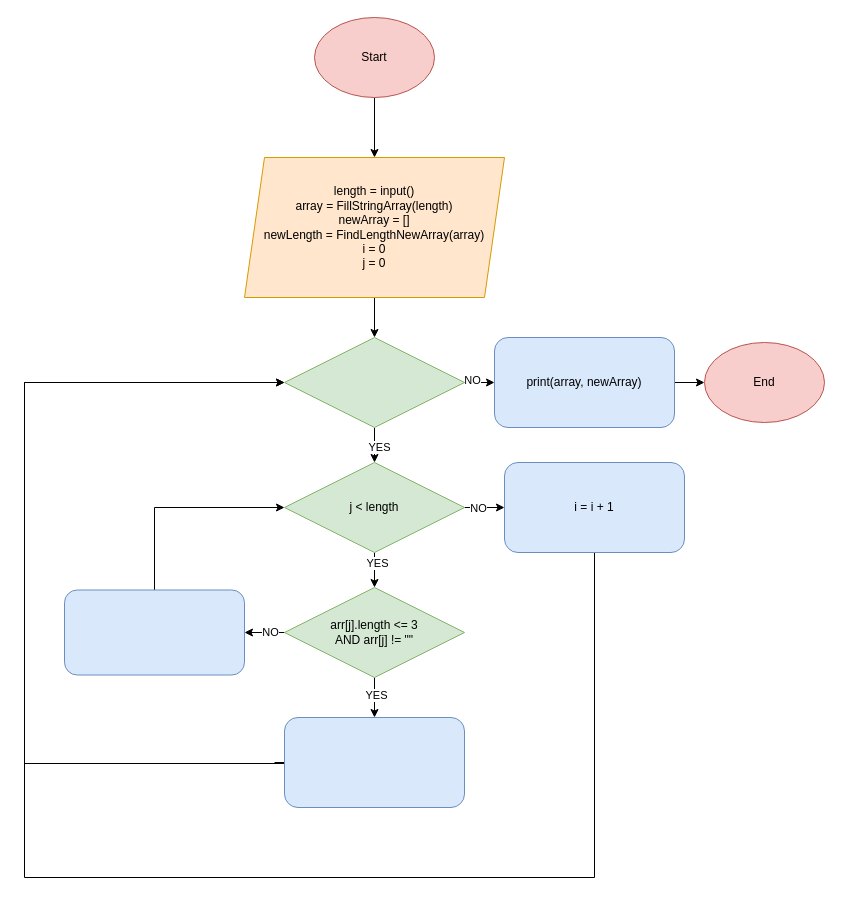
The diagram is 842 pixels wide and 903 high, and some of its shapes have lost their labels. The box of each missing label's shape, as (x1, y1, x2, y2) in pixels:
i < newLength: (284, 336, 464, 428)
j = j + 1: (64, 589, 244, 675)
newArray[i] = arr[j] arr[j] = "" i = i + 1 break: (284, 716, 464, 808)
